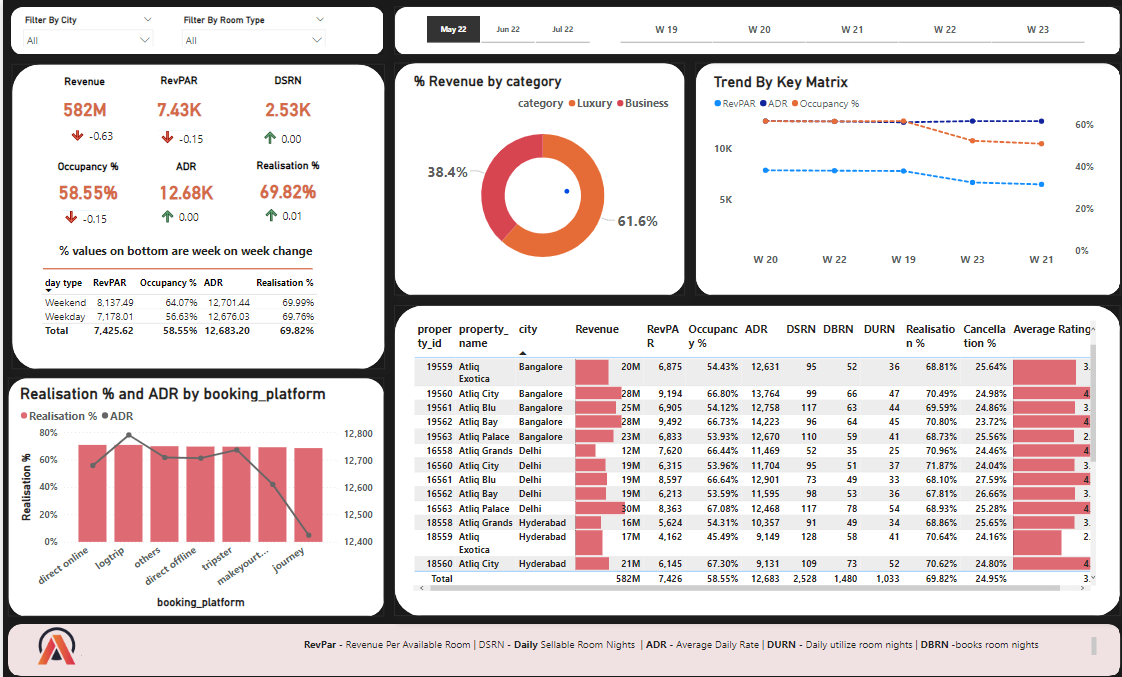

The dashboard page shown, as its layout file describes it:
{"tool":"powerbi","page":{"name":"Hostpitality-dashboard","canvas":[1800,1100],"ordinal":0},"visuals":[{"type":"shape","box":[8.3,1000,1781.7,85],"z":0},{"type":"shape","box":[1108.3,101.7,681.7,371.7],"z":1000},{"type":"shape","box":[626.7,11.7,1163.3,76.7],"z":2000},{"type":"shape","box":[626.7,101.7,465,371.7],"z":3000},{"type":"shape","box":[13.6,103.6,596.7,488.3],"z":4000},{"type":"shape","box":[8.3,605,601.7,381.7],"z":5000},{"type":"shape","box":[626.7,490,1163.3,496.7],"z":6000},{"type":"shape","box":[11.7,11.7,596.7,76.7],"z":7000},{"type":"tableEx","fields":{"Values":["dim_hotels.property_id","dim_hotels.property_name","dim_hotels.city","key_measures.Revenue","key_measures.RevPAR","key_measures.Occupancy %","key_measures.ADR","key_measures.DSRN","key_measures.DBRN","key_measures.DURN","key_measures.Realisation %","key_measures.Cancellation %"]},"box":[651.7,510,1101.7,441.7],"z":8000},{"type":"slicer","fields":{"Values":["dim_hotels.city"]},"box":[21.7,20.3,228.6,57.1],"z":9000},{"type":"slicer","fields":{"Values":["dim_rooms.room_class"]},"box":[276.7,20,250,56.7],"z":10000},{"type":"slicer","fields":{"Values":["dim_date.week no"]},"box":[961.7,20,791.7,56.7],"z":11000},{"type":"slicer","fields":{"Values":["dim_date.mmm yy"]},"box":[651.7,20,310,56.7],"z":12000},{"type":"textbox","box":[475,1015,1278.3,43.3],"z":13000},{"type":"tableEx","fields":{"Values":["key_measures.Revpar WoW change %"]},"box":[242.9,175.2,95.7,87.1],"z":14000},{"type":"tableEx","fields":{"Values":["key_measures.Revenue WoW change %"]},"box":[97.1,172.3,91.4,75.7],"z":15000},{"type":"tableEx","fields":{"Values":["key_measures.DSRN WoW change %"]},"box":[406.4,175.2,86.7,65],"z":16000},{"type":"tableEx","fields":{"Values":["key_measures.Occupancy WoW change %"]},"box":[87.1,303.8,95.7,87.1],"z":17000},{"type":"tableEx","fields":{"Values":["key_measures.ADR WoW change %"]},"box":[242.9,302.3,98.6,74.3],"z":18000},{"type":"tableEx","fields":{"Values":["key_measures.Realisation WoW change %"]},"box":[408.6,299.5,90,74.3],"z":19000},{"type":"card","title":"Revenue","fields":{"Values":["key_measures.Revenue"]},"box":[54.8,121.1,153.3,88.3],"z":20000},{"type":"card","title":"RevPAR","fields":{"Values":["key_measures.RevPAR"]},"box":[207.1,120.9,147.1,90],"z":21000},{"type":"card","title":"DSRN","fields":{"Values":["key_measures.DSRN"]},"box":[371.4,120.2,168.3,90],"z":22000},{"type":"donutChart","title":"% Revenue by category","fields":{"Category":["dim_hotels.category"],"Y":["key_measures.Revenue"]},"box":[651.7,118.3,423.3,333.3],"z":23000},{"type":"lineChart","title":"Trend By Key Matrix","fields":{"Category":["dim_date.week no"],"Y":["key_measures.RevPAR","key_measures.ADR"],"Y2":["key_measures.Occupancy %"]},"box":[1131.7,118.3,621.7,320],"z":24000},{"type":"lineStackedColumnComboChart","fields":{"Category":["fact_bookings.booking_platform"],"Y":["key_measures.Realisation %"],"Y2":["key_measures.ADR"]},"box":[21.7,616.7,575,363.3],"z":25000},{"type":"tableEx","fields":{"Values":["dim_date.day type","key_measures.RevPAR","key_measures.Occupancy %","key_measures.ADR","key_measures.Realisation %"]},"box":[55,438.3,485,118.3],"z":26000},{"type":"card","title":"Occupancy %","fields":{"Values":["key_measures.Occupancy %"]},"box":[61.4,258,148.6,80],"z":27000},{"type":"card","title":"ADR","fields":{"Values":["key_measures.ADR"]},"box":[217.1,258,150,80],"z":28000},{"type":"card","title":"Realisation %","fields":{"Values":["key_measures.Realisation %"]},"box":[385.7,255.2,140,80],"z":29000},{"type":"shape","box":[63.2,409.9,431.4,42.9],"z":30000},{"type":"textbox","box":[63.2,384.2,455.7,38.6],"z":31000},{"type":"image","box":[33.3,986.7,96.7,98.3],"z":32000}]}

Visuals, with their boxes in screenshot pixels (x1, y1, x2, y2), scaled from the page's 1800x1100 canvas onto the 1122x677 screenshot:
shape: <region>5, 615, 1116, 668</region>
shape: <region>691, 63, 1116, 291</region>
shape: <region>391, 7, 1116, 54</region>
shape: <region>391, 63, 680, 291</region>
shape: <region>8, 64, 380, 364</region>
shape: <region>5, 372, 380, 607</region>
shape: <region>391, 302, 1116, 607</region>
shape: <region>7, 7, 379, 54</region>
tableEx - dim_hotels.property_id x dim_hotels.property_name: <region>406, 314, 1093, 586</region>
slicer - dim_hotels.city: <region>14, 12, 156, 48</region>
slicer - dim_rooms.room_class: <region>172, 12, 328, 47</region>
slicer - dim_date.week no: <region>599, 12, 1093, 47</region>
slicer - dim_date.mmm yy: <region>406, 12, 599, 47</region>
textbox: <region>296, 625, 1093, 651</region>
tableEx - key_measures.Revpar WoW change %: <region>151, 108, 211, 161</region>
tableEx - key_measures.Revenue WoW change %: <region>61, 106, 117, 153</region>
tableEx - key_measures.DSRN WoW change %: <region>253, 108, 307, 148</region>
tableEx - key_measures.Occupancy WoW change %: <region>54, 187, 114, 241</region>
tableEx - key_measures.ADR WoW change %: <region>151, 186, 213, 232</region>
tableEx - key_measures.Realisation WoW change %: <region>255, 184, 311, 230</region>
"Revenue" card: <region>34, 75, 130, 129</region>
"RevPAR" card: <region>129, 74, 221, 130</region>
"DSRN" card: <region>232, 74, 336, 129</region>
"% Revenue by category" donutChart: <region>406, 73, 670, 278</region>
"Trend By Key Matrix" lineChart: <region>705, 73, 1093, 270</region>
lineStackedColumnComboChart - fact_bookings.booking_platform x key_measures.Realisation %: <region>14, 380, 372, 603</region>
tableEx - dim_date.day type x key_measures.RevPAR: <region>34, 270, 337, 343</region>
"Occupancy %" card: <region>38, 159, 131, 208</region>
"ADR" card: <region>135, 159, 229, 208</region>
"Realisation %" card: <region>240, 157, 328, 206</region>
shape: <region>39, 252, 308, 279</region>
textbox: <region>39, 236, 323, 260</region>
image: <region>21, 607, 81, 668</region>
